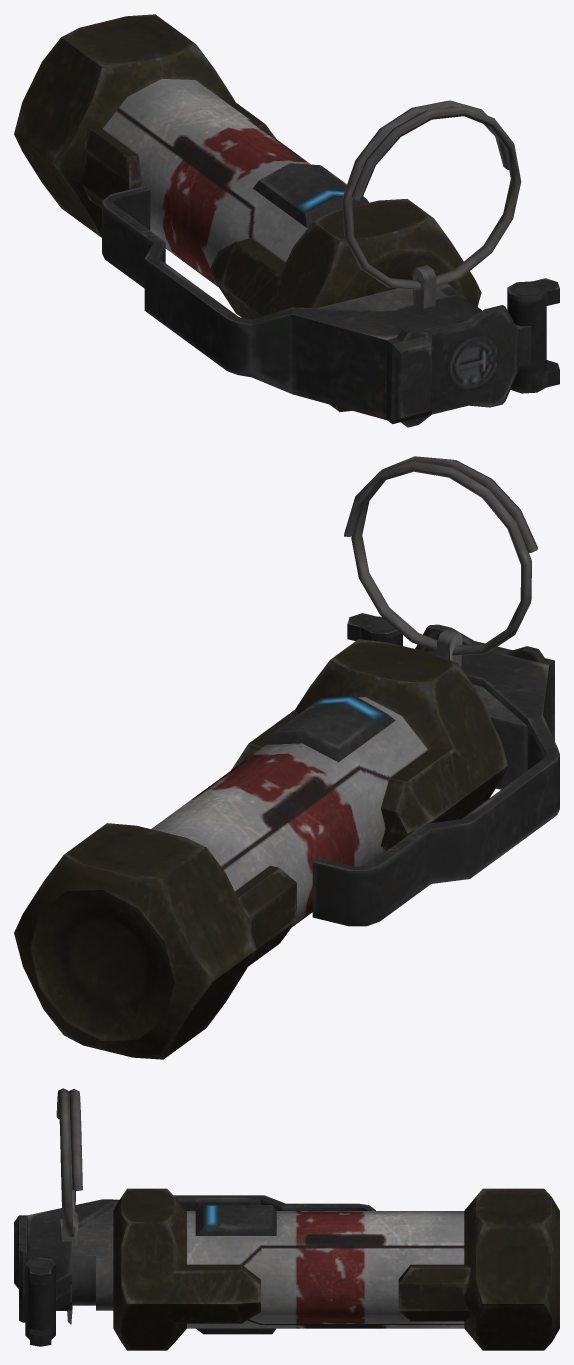
The model's file is t6_wpn_grenade_flashbang_view_LOD0.obj.
3 views of the same model, one above another, from view 1: azimuth 30°, elevation 25°; view 2: azimuth 150°, elevation 25°; view 3: azimuth 270°, elevation 25° (orthographic). The views are drawn at different scales.
Visible parts, largest first — view 1: mtl_t6_wpn_grenade_flashbang; view 2: mtl_t6_wpn_grenade_flashbang; view 3: mtl_t6_wpn_grenade_flashbang.
Boxes of the visible parts, bbox=[...] form: mtl_t6_wpn_grenade_flashbang: bbox=[14, 14, 559, 427]; mtl_t6_wpn_grenade_flashbang: bbox=[14, 456, 559, 1059]; mtl_t6_wpn_grenade_flashbang: bbox=[14, 1088, 559, 1350].
Bounding box in the file's own units: 6.91 × 8.05 × 16.57.
